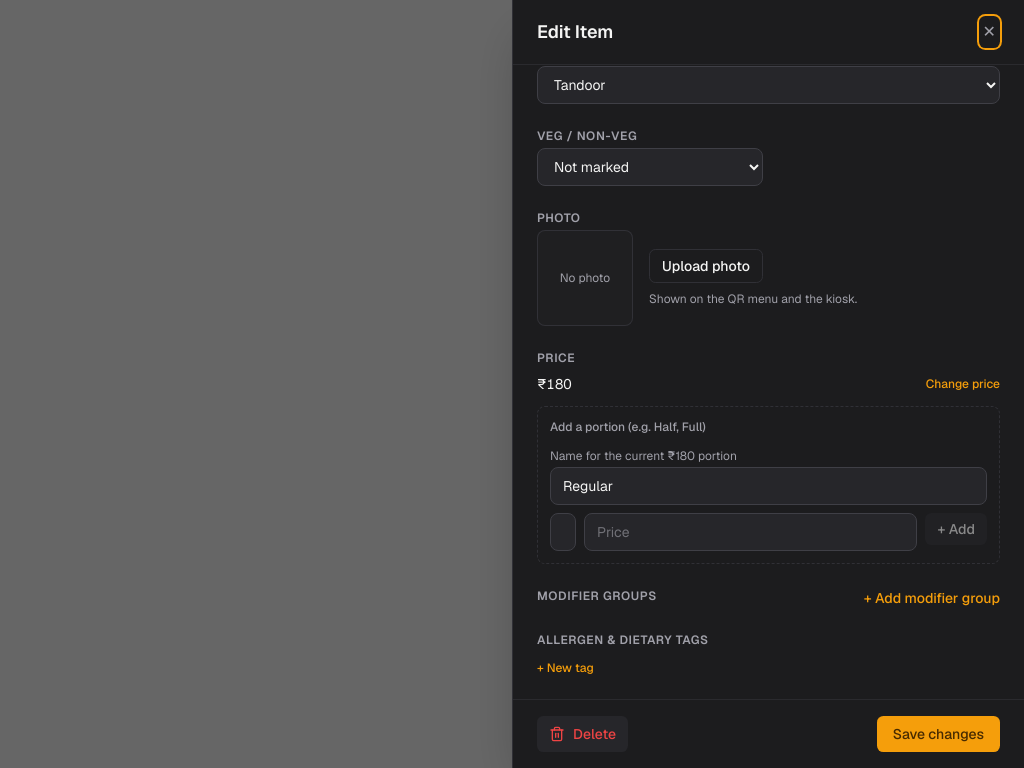
ItemDrawer modifier group validation messaging › shows a message when a new group has no options yet, and disables save
(page scrolled)
Click the button with test id "item-add-modifier-group" at (932, 598), box [864, 588, 1000, 608]
(page scrolled)
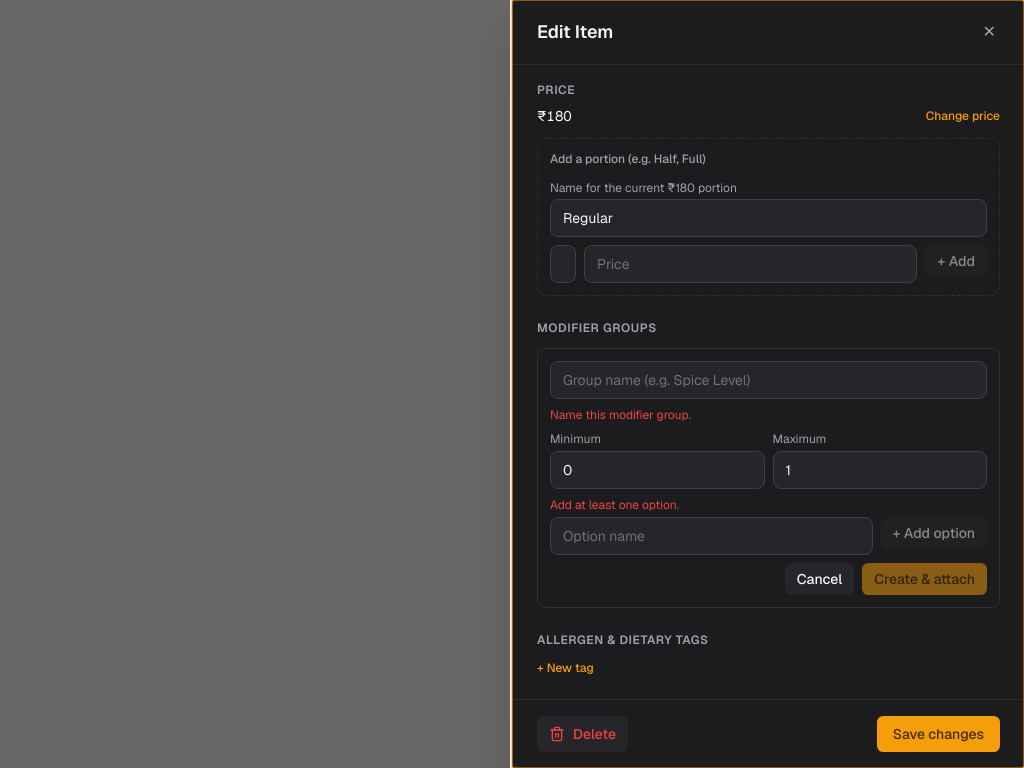
Expected: the text with test id "new-modifier-group-options-error" reads "Add at least one option.", [550, 497, 679, 513]
Expected: the button with test id "new-modifier-group-save" is disabled, [862, 563, 987, 595]
